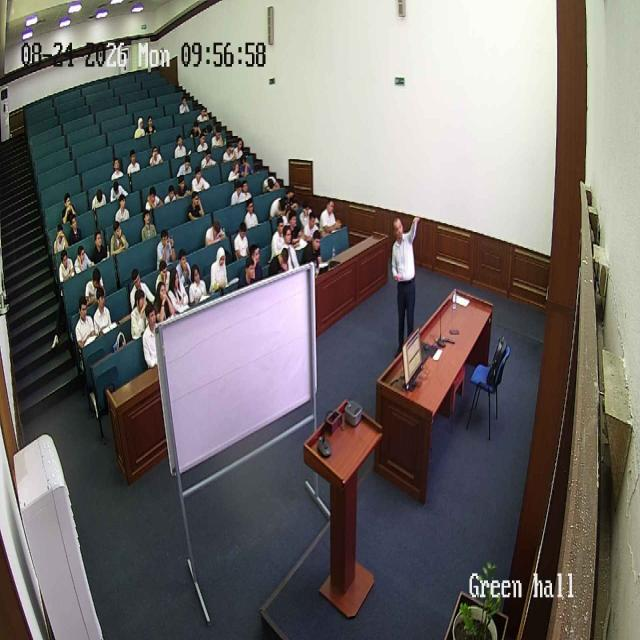person: (390, 215, 420, 355), (142, 303, 162, 369), (75, 298, 98, 353), (152, 278, 175, 326), (93, 287, 114, 338), (168, 266, 190, 314), (208, 246, 230, 294), (130, 268, 155, 310), (304, 227, 326, 273), (281, 222, 301, 271), (130, 289, 149, 340), (188, 263, 208, 307), (156, 228, 176, 270), (109, 219, 129, 256), (320, 198, 340, 235), (84, 266, 104, 303), (175, 247, 192, 290), (233, 218, 250, 260), (238, 255, 258, 289), (205, 217, 227, 247), (73, 243, 93, 276), (91, 228, 109, 264), (58, 250, 76, 284), (140, 209, 158, 243), (258, 168, 282, 192), (53, 221, 69, 255), (187, 190, 205, 220), (244, 198, 260, 230), (115, 191, 131, 222), (225, 162, 245, 186), (269, 219, 286, 247), (57, 196, 75, 222), (127, 145, 143, 174), (269, 193, 287, 218), (286, 204, 300, 236), (146, 146, 165, 168), (282, 183, 299, 207), (304, 214, 321, 236), (199, 144, 215, 167), (69, 217, 83, 243), (221, 142, 235, 168), (174, 133, 189, 157), (300, 200, 314, 224), (146, 184, 161, 206), (192, 169, 207, 191), (134, 110, 146, 137), (89, 188, 108, 204), (110, 176, 125, 196), (212, 122, 224, 147), (240, 178, 253, 200), (229, 185, 244, 204), (179, 155, 191, 178), (143, 112, 154, 136), (198, 132, 209, 156), (240, 156, 252, 178), (177, 174, 190, 194), (165, 182, 177, 203), (234, 137, 245, 157), (196, 104, 208, 122), (190, 119, 202, 136), (112, 157, 123, 175), (179, 98, 191, 113)
